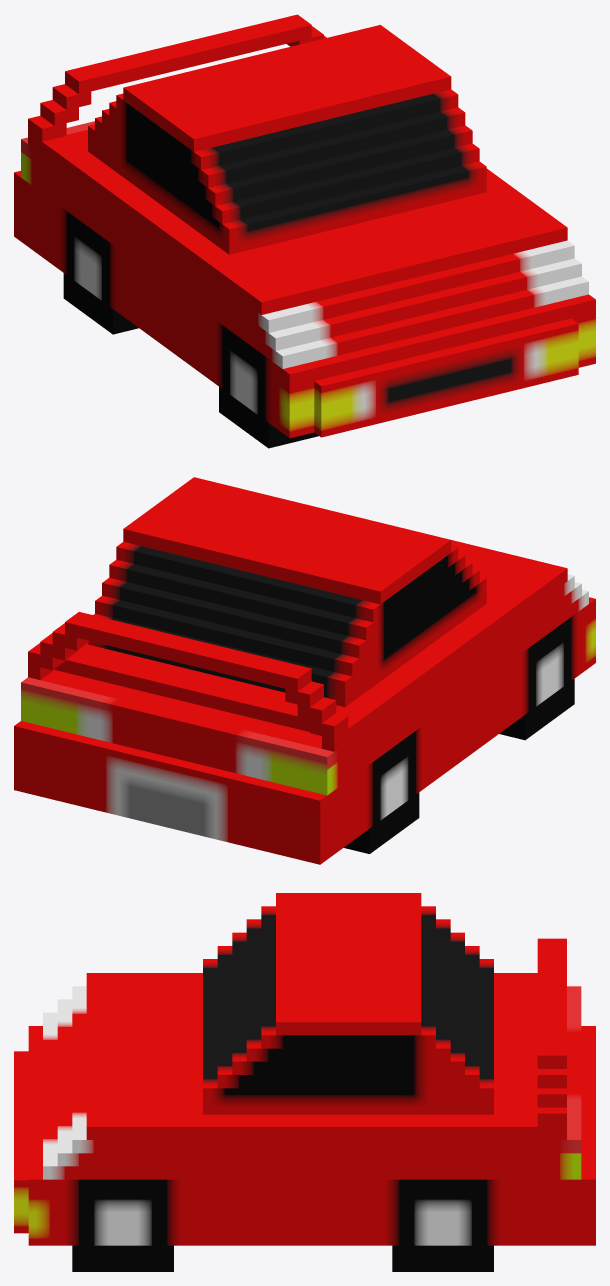
Rendered from Car_7.fbx.
3 views of the same model, one above another, from view 1: azimuth 30°, elevation 25°; view 2: azimuth 150°, elevation 25°; view 3: azimuth 270°, elevation 25° (orthographic). The views are drawn at different scales.
Parts seen in each view (by area): view 1: Car_7; view 2: Car_7; view 3: Car_7.
Part boxes in pixels (<box>): Car_7: <box>14,14,595,448</box>; Car_7: <box>14,477,595,864</box>; Car_7: <box>14,893,595,1271</box>.
Bounding box in the file's own units: 25 × 18 × 40.
Materials: 1 (1 with a texture image).
